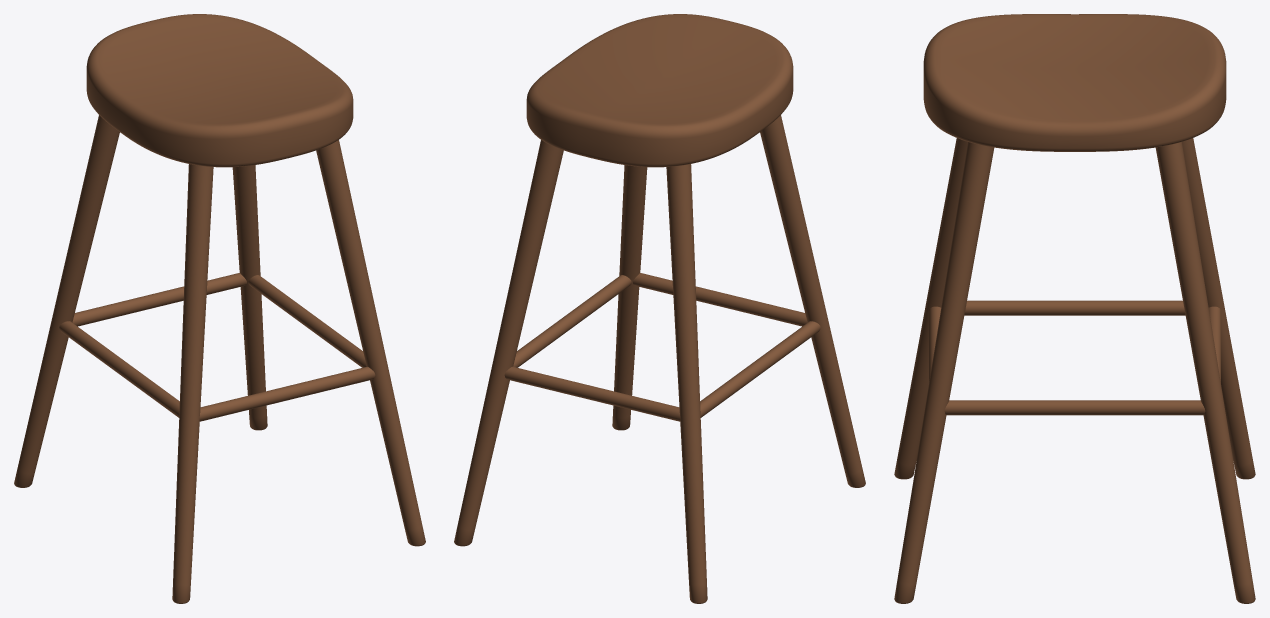
Rendered from stool.fbx.
The picture shows the model from 3 angles, left to right: view 1: azimuth 30°, elevation 25°; view 2: azimuth 150°, elevation 25°; view 3: azimuth 270°, elevation 25°; orthographic projection. The views are drawn at different scales.
Parts seen in each view (by area): view 1: stool; view 2: stool; view 3: stool.
Boxes of the visible parts, bbox=[...] form: stool: bbox=[14, 14, 425, 603]; stool: bbox=[454, 14, 865, 603]; stool: bbox=[894, 14, 1255, 603].
Size of the model in its own units: 0.3935 by 0.4534 by 0.6673.
